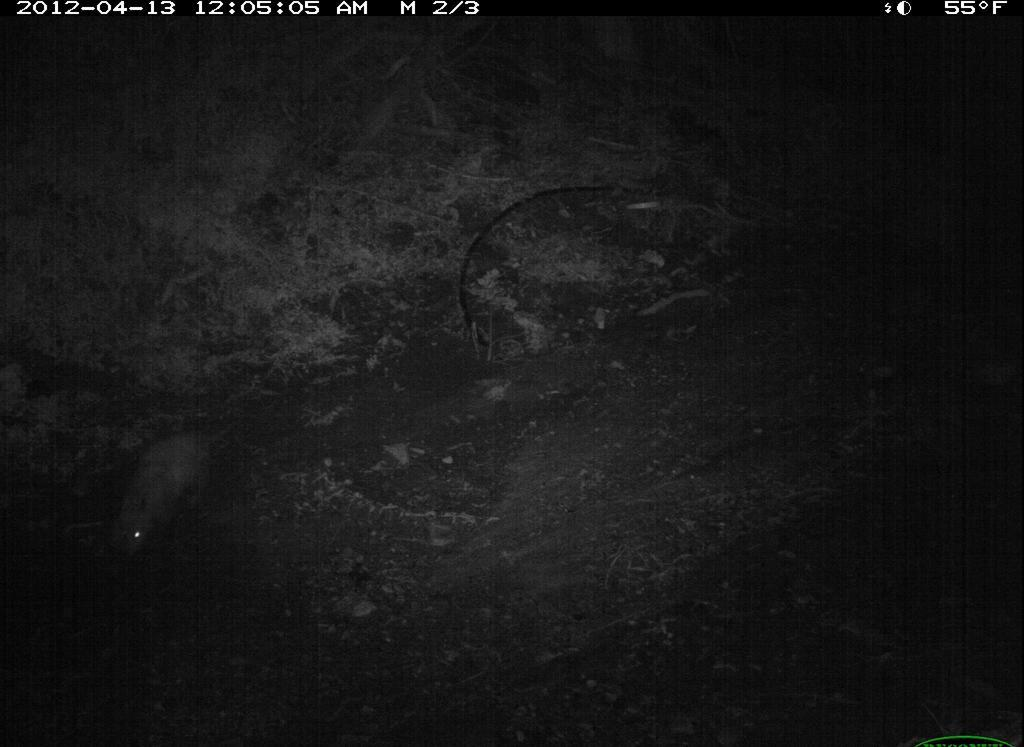opossum: (100, 406, 253, 569)
